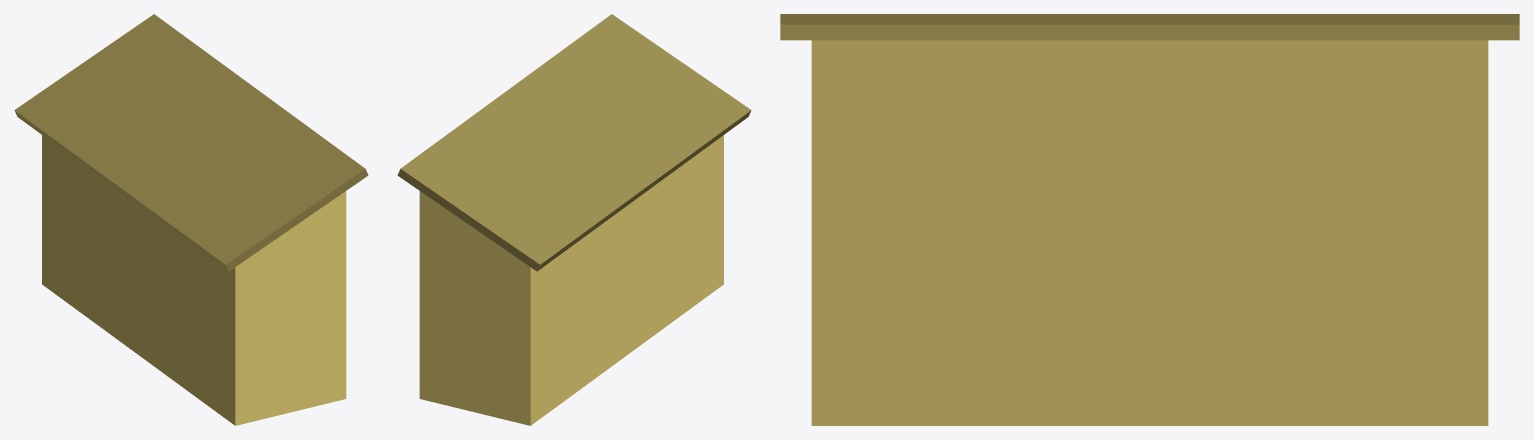
File: result.glb
3 views of the same model, side by side, from view 1: azimuth 30°, elevation 25°; view 2: azimuth 150°, elevation 25°; view 3: azimuth 270°, elevation 25° (orthographic). The views are drawn at different scales.
Visible parts, largest first — view 1: b1d81b1f-2119-4c90-8918-38b820b7e50d__undefined, 98f8f07c-050e-4c44-8018-08c4e92e053a__undefined; view 2: b1d81b1f-2119-4c90-8918-38b820b7e50d__undefined, 98f8f07c-050e-4c44-8018-08c4e92e053a__undefined; view 3: b1d81b1f-2119-4c90-8918-38b820b7e50d__undefined, 98f8f07c-050e-4c44-8018-08c4e92e053a__undefined.
Boxes of the visible parts, x1=… form: b1d81b1f-2119-4c90-8918-38b820b7e50d__undefined: x1=42, y1=135, x2=346, y2=425; 98f8f07c-050e-4c44-8018-08c4e92e053a__undefined: x1=14, y1=14, x2=368, y2=271; b1d81b1f-2119-4c90-8918-38b820b7e50d__undefined: x1=419, y1=135, x2=723, y2=425; 98f8f07c-050e-4c44-8018-08c4e92e053a__undefined: x1=397, y1=14, x2=751, y2=271; b1d81b1f-2119-4c90-8918-38b820b7e50d__undefined: x1=811, y1=40, x2=1488, y2=425; 98f8f07c-050e-4c44-8018-08c4e92e053a__undefined: x1=780, y1=14, x2=1519, y2=40.
Size of the model in its own units: 457 by 717 by 1172.
